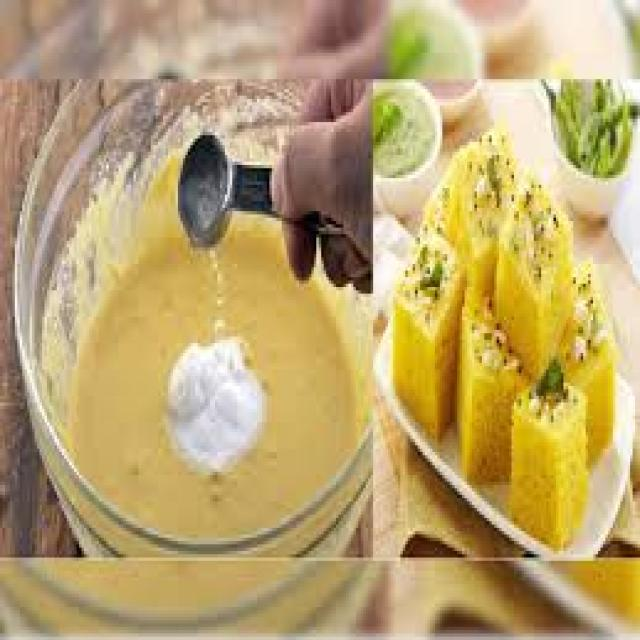DHOKLA: (392, 128, 619, 555)
